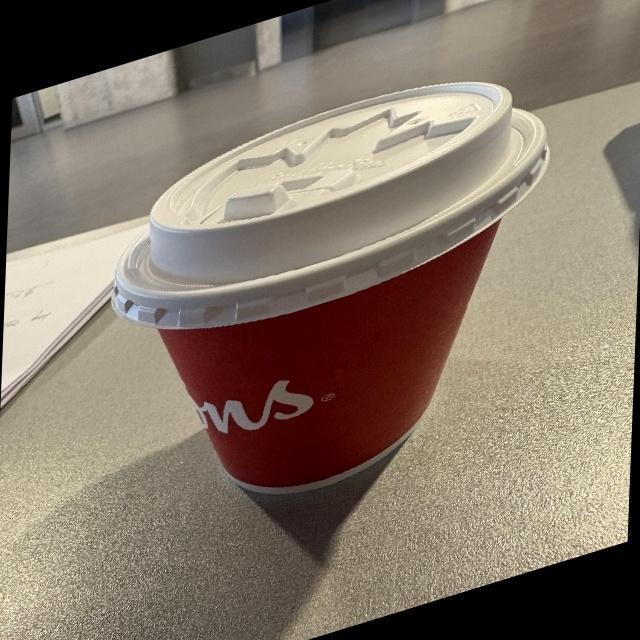timmies: (97, 72, 558, 504)
